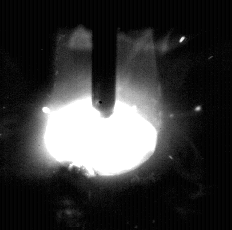arame: (92, 0, 117, 118)
poca: (45, 0, 157, 230)
